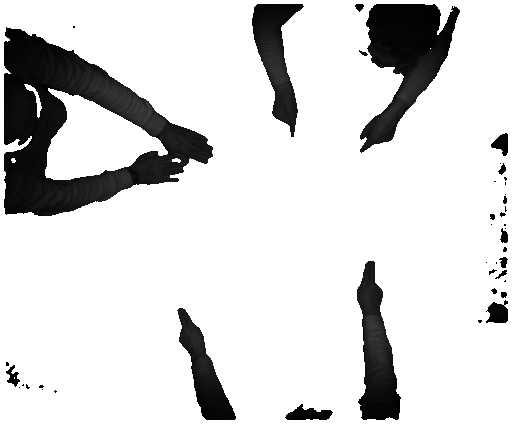hand: (165, 120, 215, 170), (134, 152, 186, 191), (360, 111, 401, 159), (176, 304, 211, 355), (352, 256, 383, 312), (272, 91, 303, 143)
